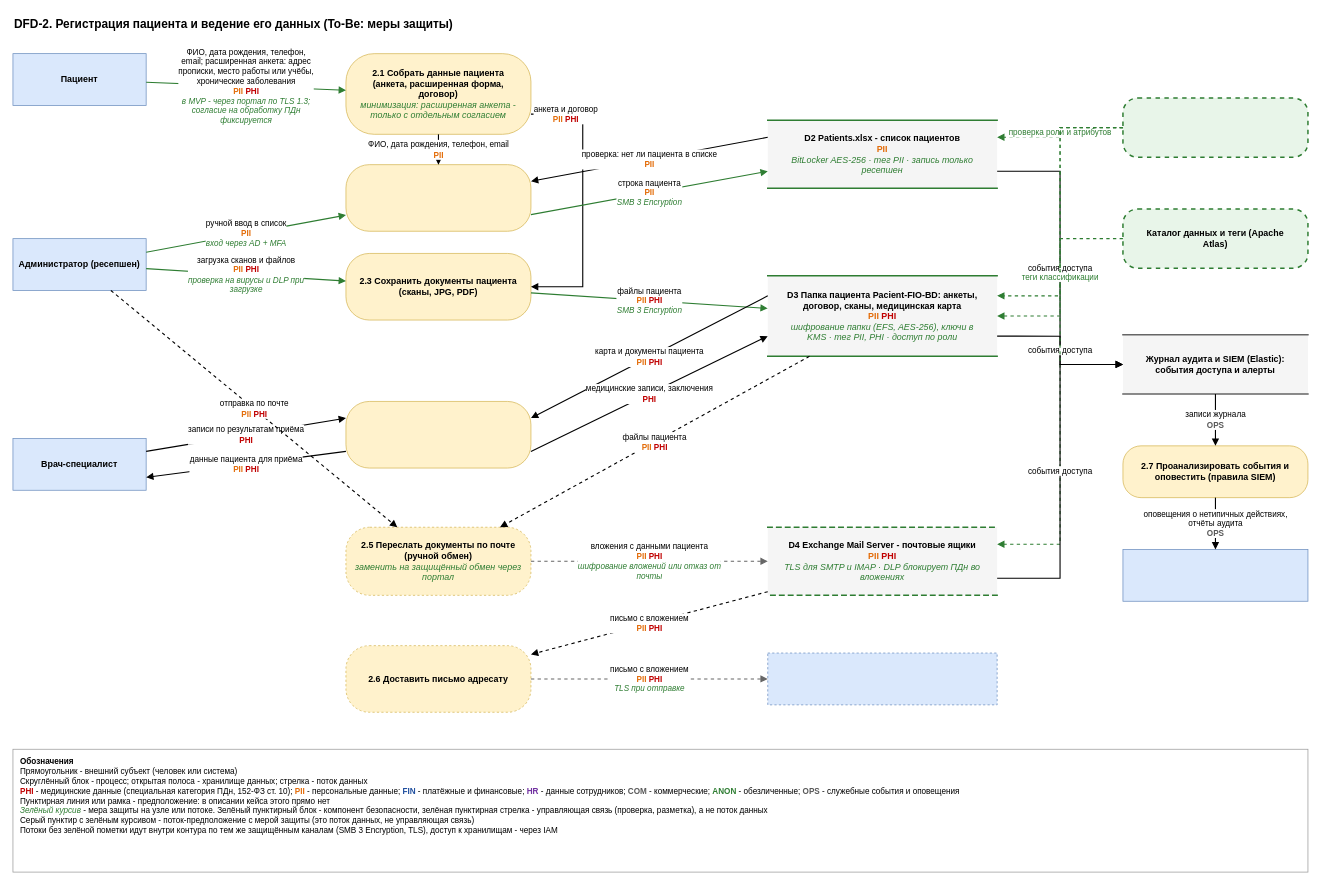
The diagram is 1322 pixels wide and 885 high, and some of its shapes have lost their labels. The centre of each missing label's shape, as x and y in pixels:
"2.2 Зарегистрировать пациента в списке" goes at [438,197].
"2.4 Использовать данные и медкарту на приёме врач видит только своих пациентов" goes at [438,434].
"IAM (Keycloak + AD): MFA, RBAC и ABAC" goes at [1215,127].
"Команда IT и ответственный за ПДн" goes at [1215,575].
"Получатель письма (пациент, лаборатория, коллега)" goes at [882,678].
